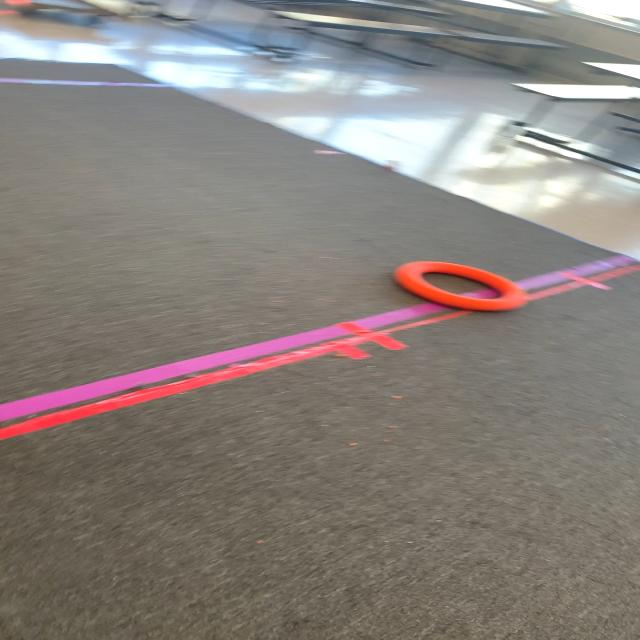notes: (395, 260, 525, 312)
